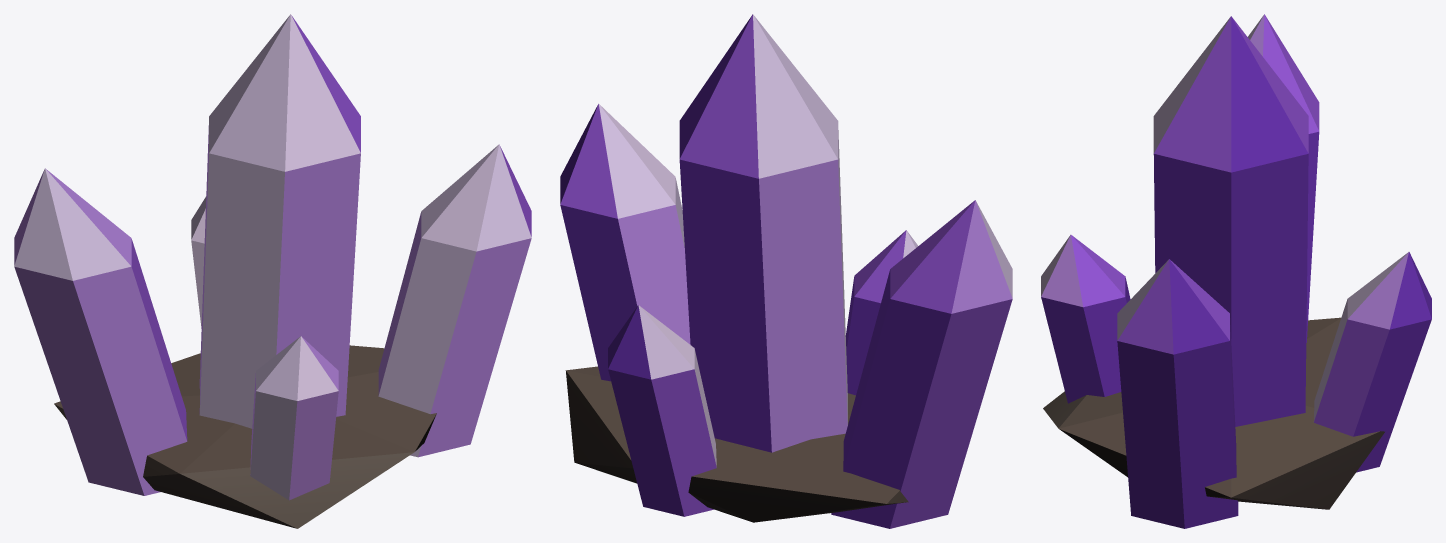
Rendered from crystal_purple.glb.
3 views of the same model, side by side, from view 1: azimuth 30°, elevation 25°; view 2: azimuth 150°, elevation 25°; view 3: azimuth 270°, elevation 25° (orthographic). The views are drawn at different scales.
Parts seen in each view (by area): view 1: crystal_purple; view 2: crystal_purple; view 3: crystal_purple.
Boxes of the visible parts, bbox=[...] form: crystal_purple: bbox=[14, 14, 531, 528]; crystal_purple: bbox=[560, 14, 1012, 528]; crystal_purple: bbox=[1041, 14, 1431, 528].
Size of the model in its own units: 0.7233 by 0.62 by 0.5051.
